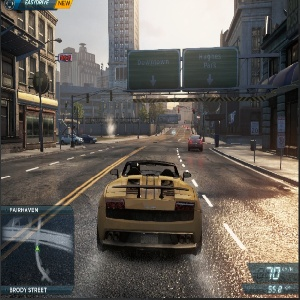building: (108, 1, 141, 141), (61, 39, 104, 87)
lamp post: (35, 33, 64, 150)
road sign: (127, 51, 240, 89), (275, 115, 288, 176), (251, 121, 260, 166), (156, 113, 180, 125)
vehicle: (186, 133, 203, 151), (63, 129, 83, 144), (77, 132, 97, 143), (170, 128, 177, 137)
